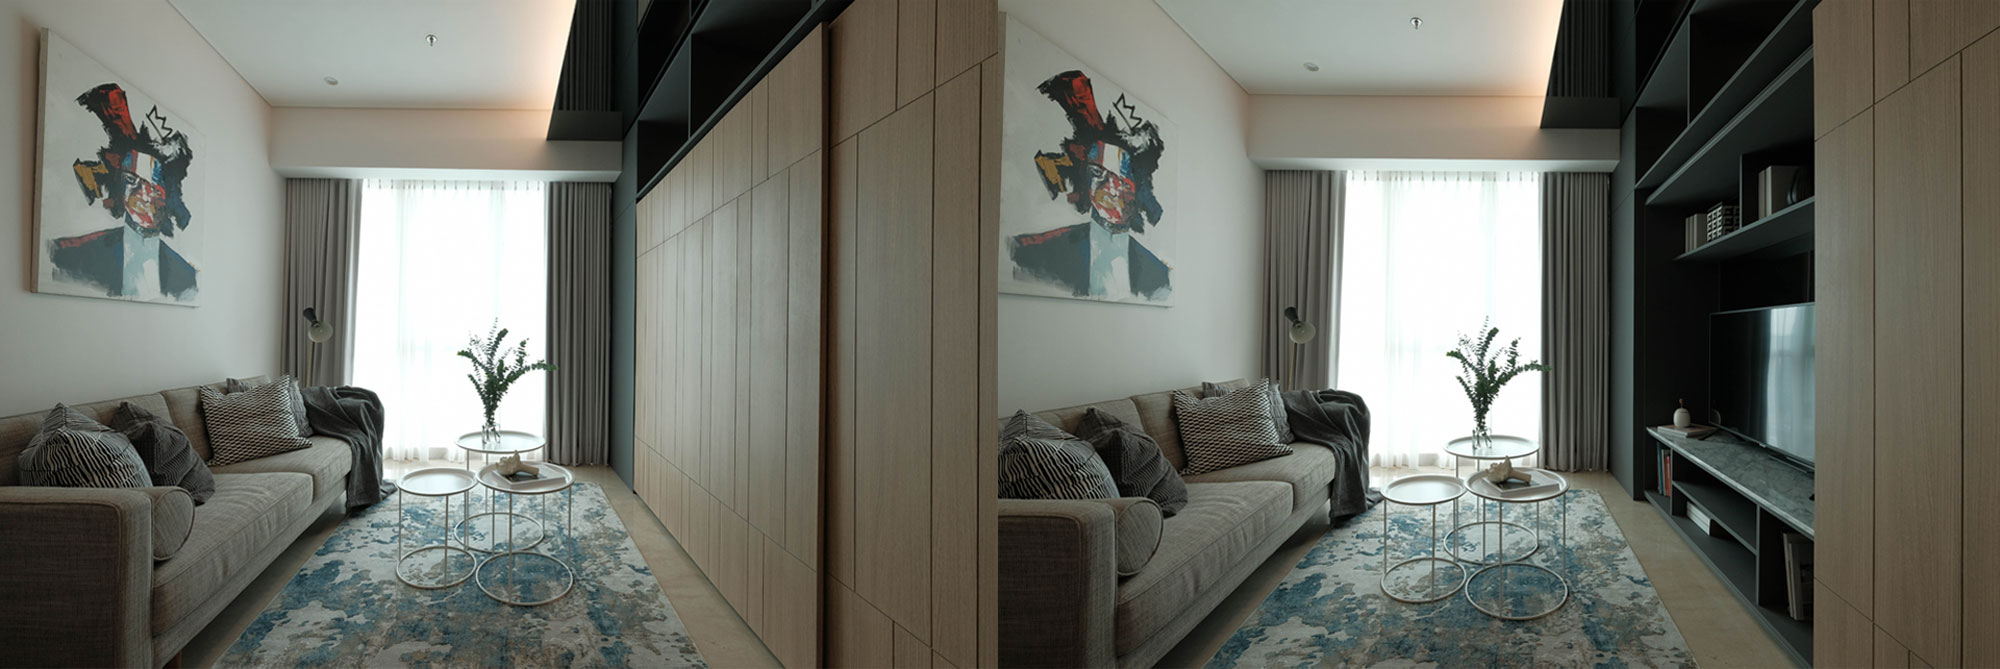bantal: (17, 396, 152, 495), (1167, 380, 1302, 469), (116, 403, 228, 507), (1094, 402, 1194, 513), (196, 370, 318, 460), (1000, 412, 1114, 500)
buku: (1675, 198, 1741, 249), (1755, 160, 1805, 220)
lukisan: (22, 20, 233, 329), (989, 24, 1189, 320)
meja: (1460, 456, 1584, 617), (474, 446, 571, 603), (1375, 467, 1463, 618), (395, 462, 474, 596)
sova: (5, 372, 389, 660), (999, 370, 1369, 661)
tanaman: (1446, 331, 1533, 437), (458, 327, 540, 437)
tv: (1691, 297, 1821, 477)
